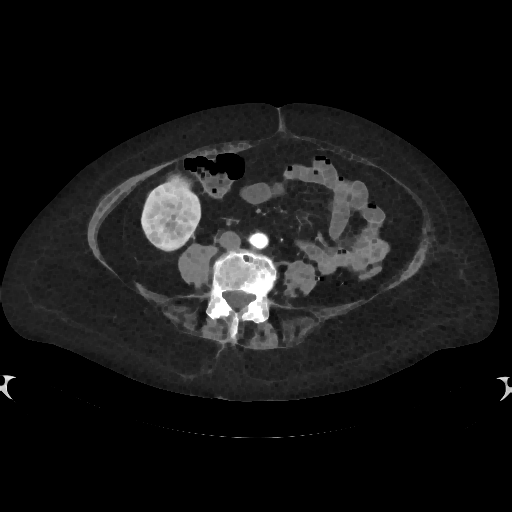Lesion: (139, 182, 207, 259)
